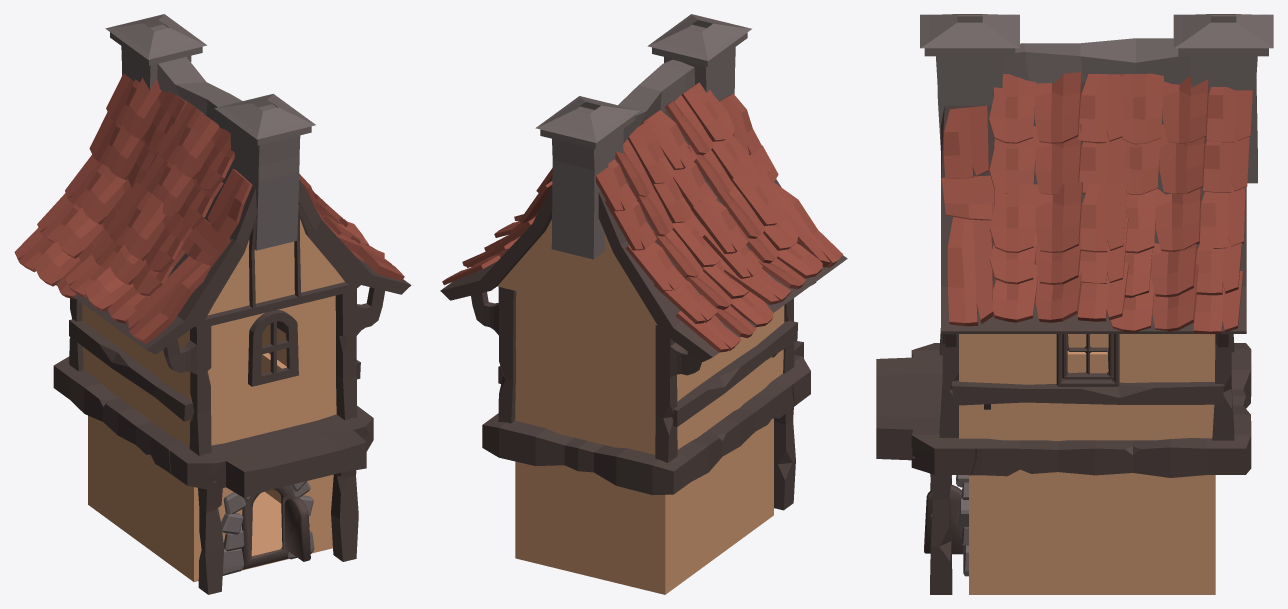
Rendered from maison-petite-1.glb.
The picture shows the model from 3 angles, left to right: view 1: azimuth 30°, elevation 25°; view 2: azimuth 150°, elevation 25°; view 3: azimuth 270°, elevation 25°; orthographic projection. The views are drawn at different scales.
Parts seen in each view (by area): view 1: Wood Frame.001, Roof Rocks.001, Building_3, Roof.002; view 2: Building_3, Roof Rocks.001, Wood Frame.001, Roof.002; view 3: Roof Rocks.001, Building_3, Wood Frame.001, Roof.002.
Part boxes in pixels (x1,y1,x2,y2): Wood Frame.001: (53, 166, 411, 594); Roof Rocks.001: (14, 73, 404, 343); Building_3: (82, 219, 344, 581); Roof.002: (105, 14, 315, 575); Building_3: (497, 219, 784, 594); Roof Rocks.001: (442, 82, 842, 352); Wood Frame.001: (440, 110, 847, 510); Roof.002: (535, 14, 751, 259); Roof Rocks.001: (941, 72, 1252, 334); Building_3: (959, 334, 1215, 594); Wood Frame.001: (876, 81, 1251, 594); Roof.002: (920, 14, 1273, 576).
Size of the model in its own units: 39.44 by 62.32 by 41.98.
